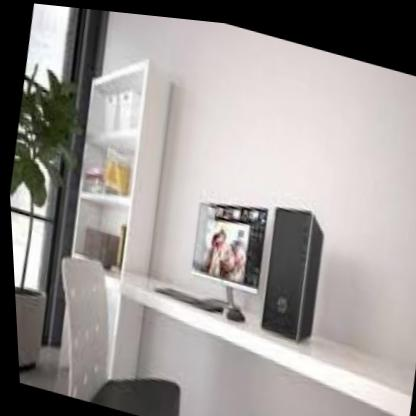Chair: (29, 236, 202, 416)
Shelf: (57, 35, 190, 281)
